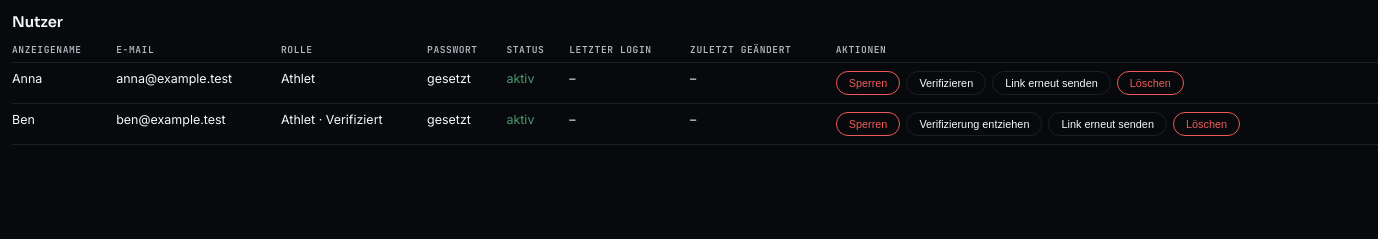
AdminUsersTable — Verifizierte Autoren › der Entzug fragt zuerst nach und ändert noch nichts
The image size is (1378, 239).
Expected: the text "Anna" is shown, [12,62,116,103]
Click the button with aria-label "Verifizierung für Ben entziehen". click: (974, 124)
box: [906,112,1042,136]
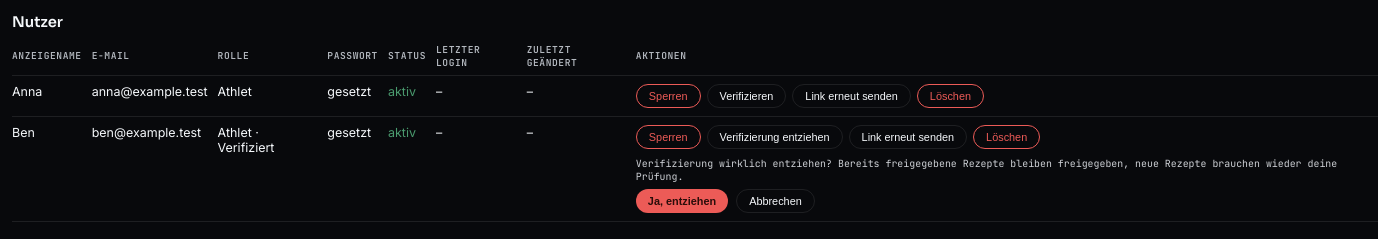
Result: the element named "Entzug bestätigen" shows "Bereits freigegebene Rezepte bleiben freigegeben" at [636,157,1337,183]
